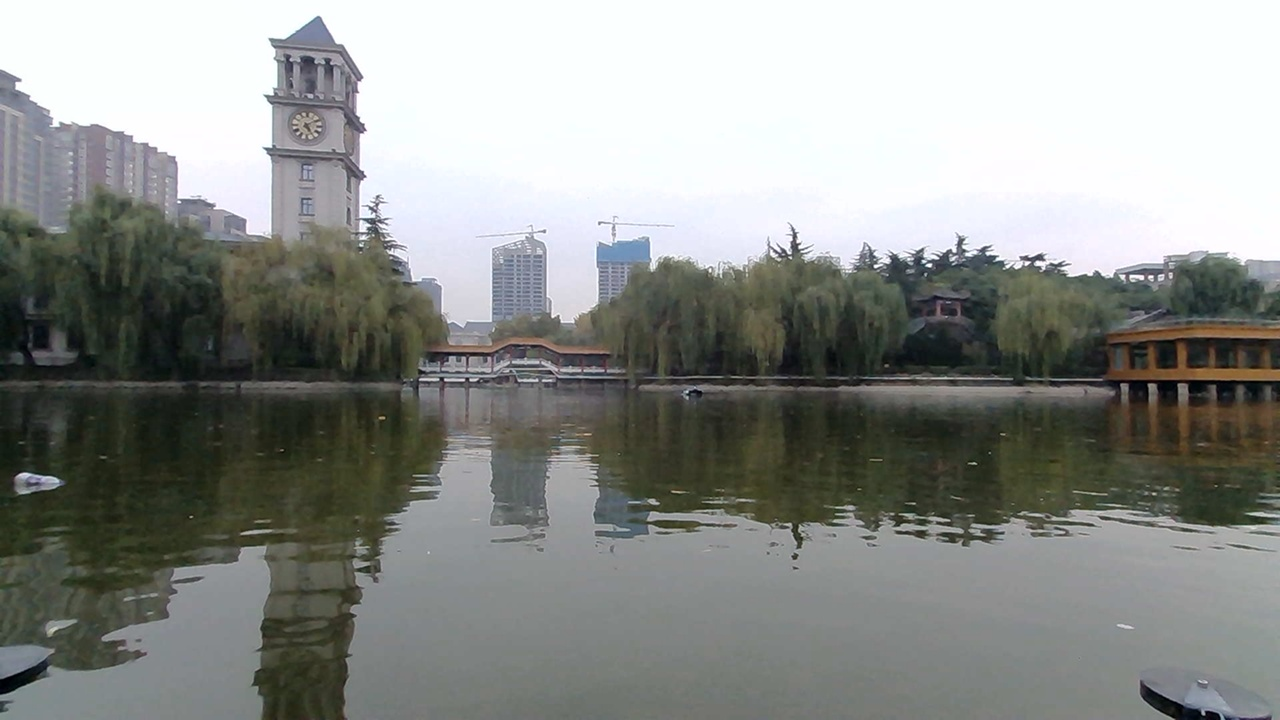bottle: (12, 459, 64, 497)
